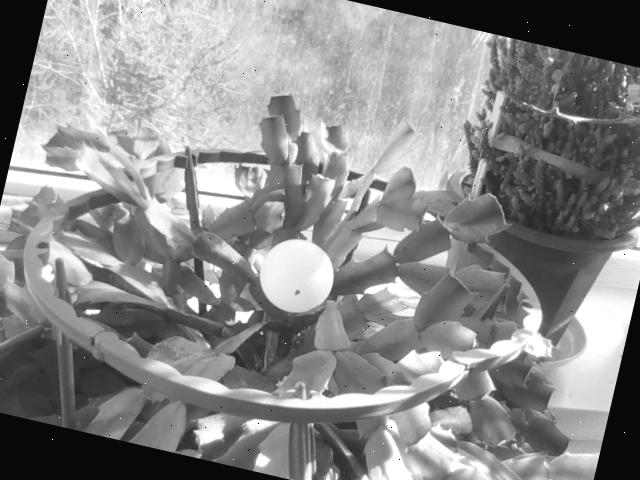ball: (254, 233, 341, 320)
